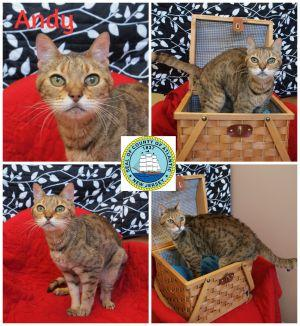bengal: (30, 26, 117, 127)
